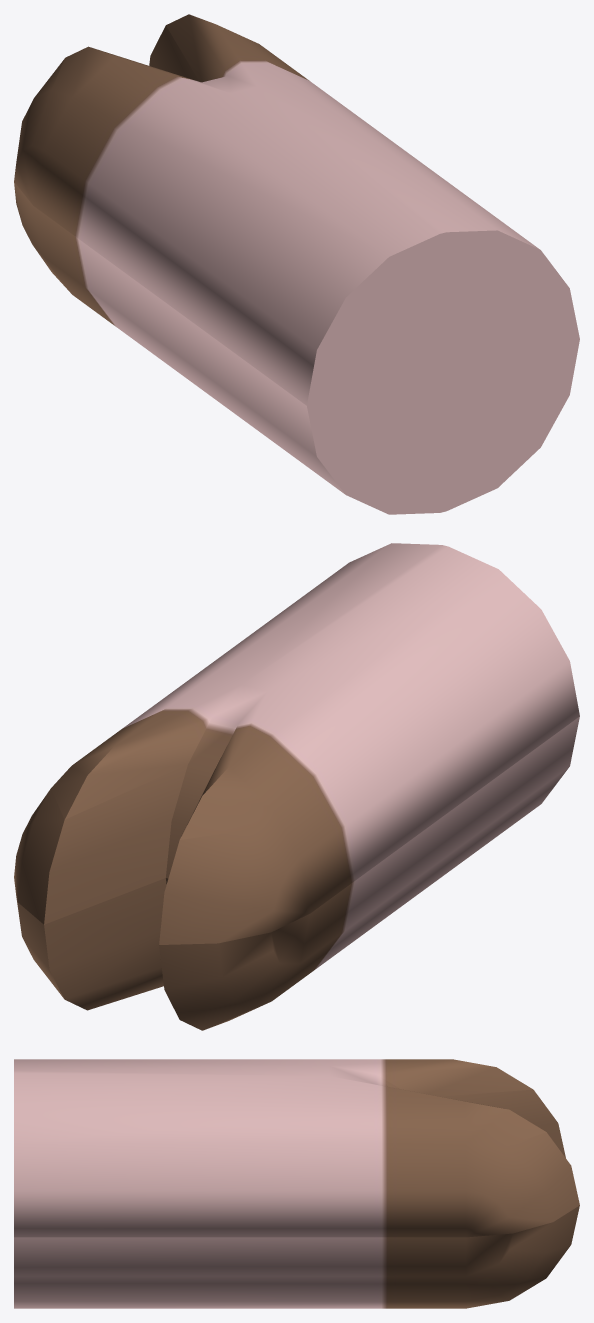
Rendered from foot.glb.
3 renders of one model, top to bottom at view 1: azimuth 30°, elevation 25°; view 2: azimuth 150°, elevation 25°; view 3: azimuth 270°, elevation 25°, orthographic. The views are drawn at different scales.
Visible parts, largest first — view 1: 立方体_1; view 2: 立方体_1; view 3: 立方体_1.
Boxes of the visible parts, box(x1,y1,x2,y2) form: 立方体_1: box(14, 14, 579, 514); 立方体_1: box(14, 543, 579, 1030); 立方体_1: box(14, 1059, 579, 1308).
Size of the model in its own units: 0.2947 by 0.2877 by 0.6591.
Materials: 1 (1 with a texture image).
